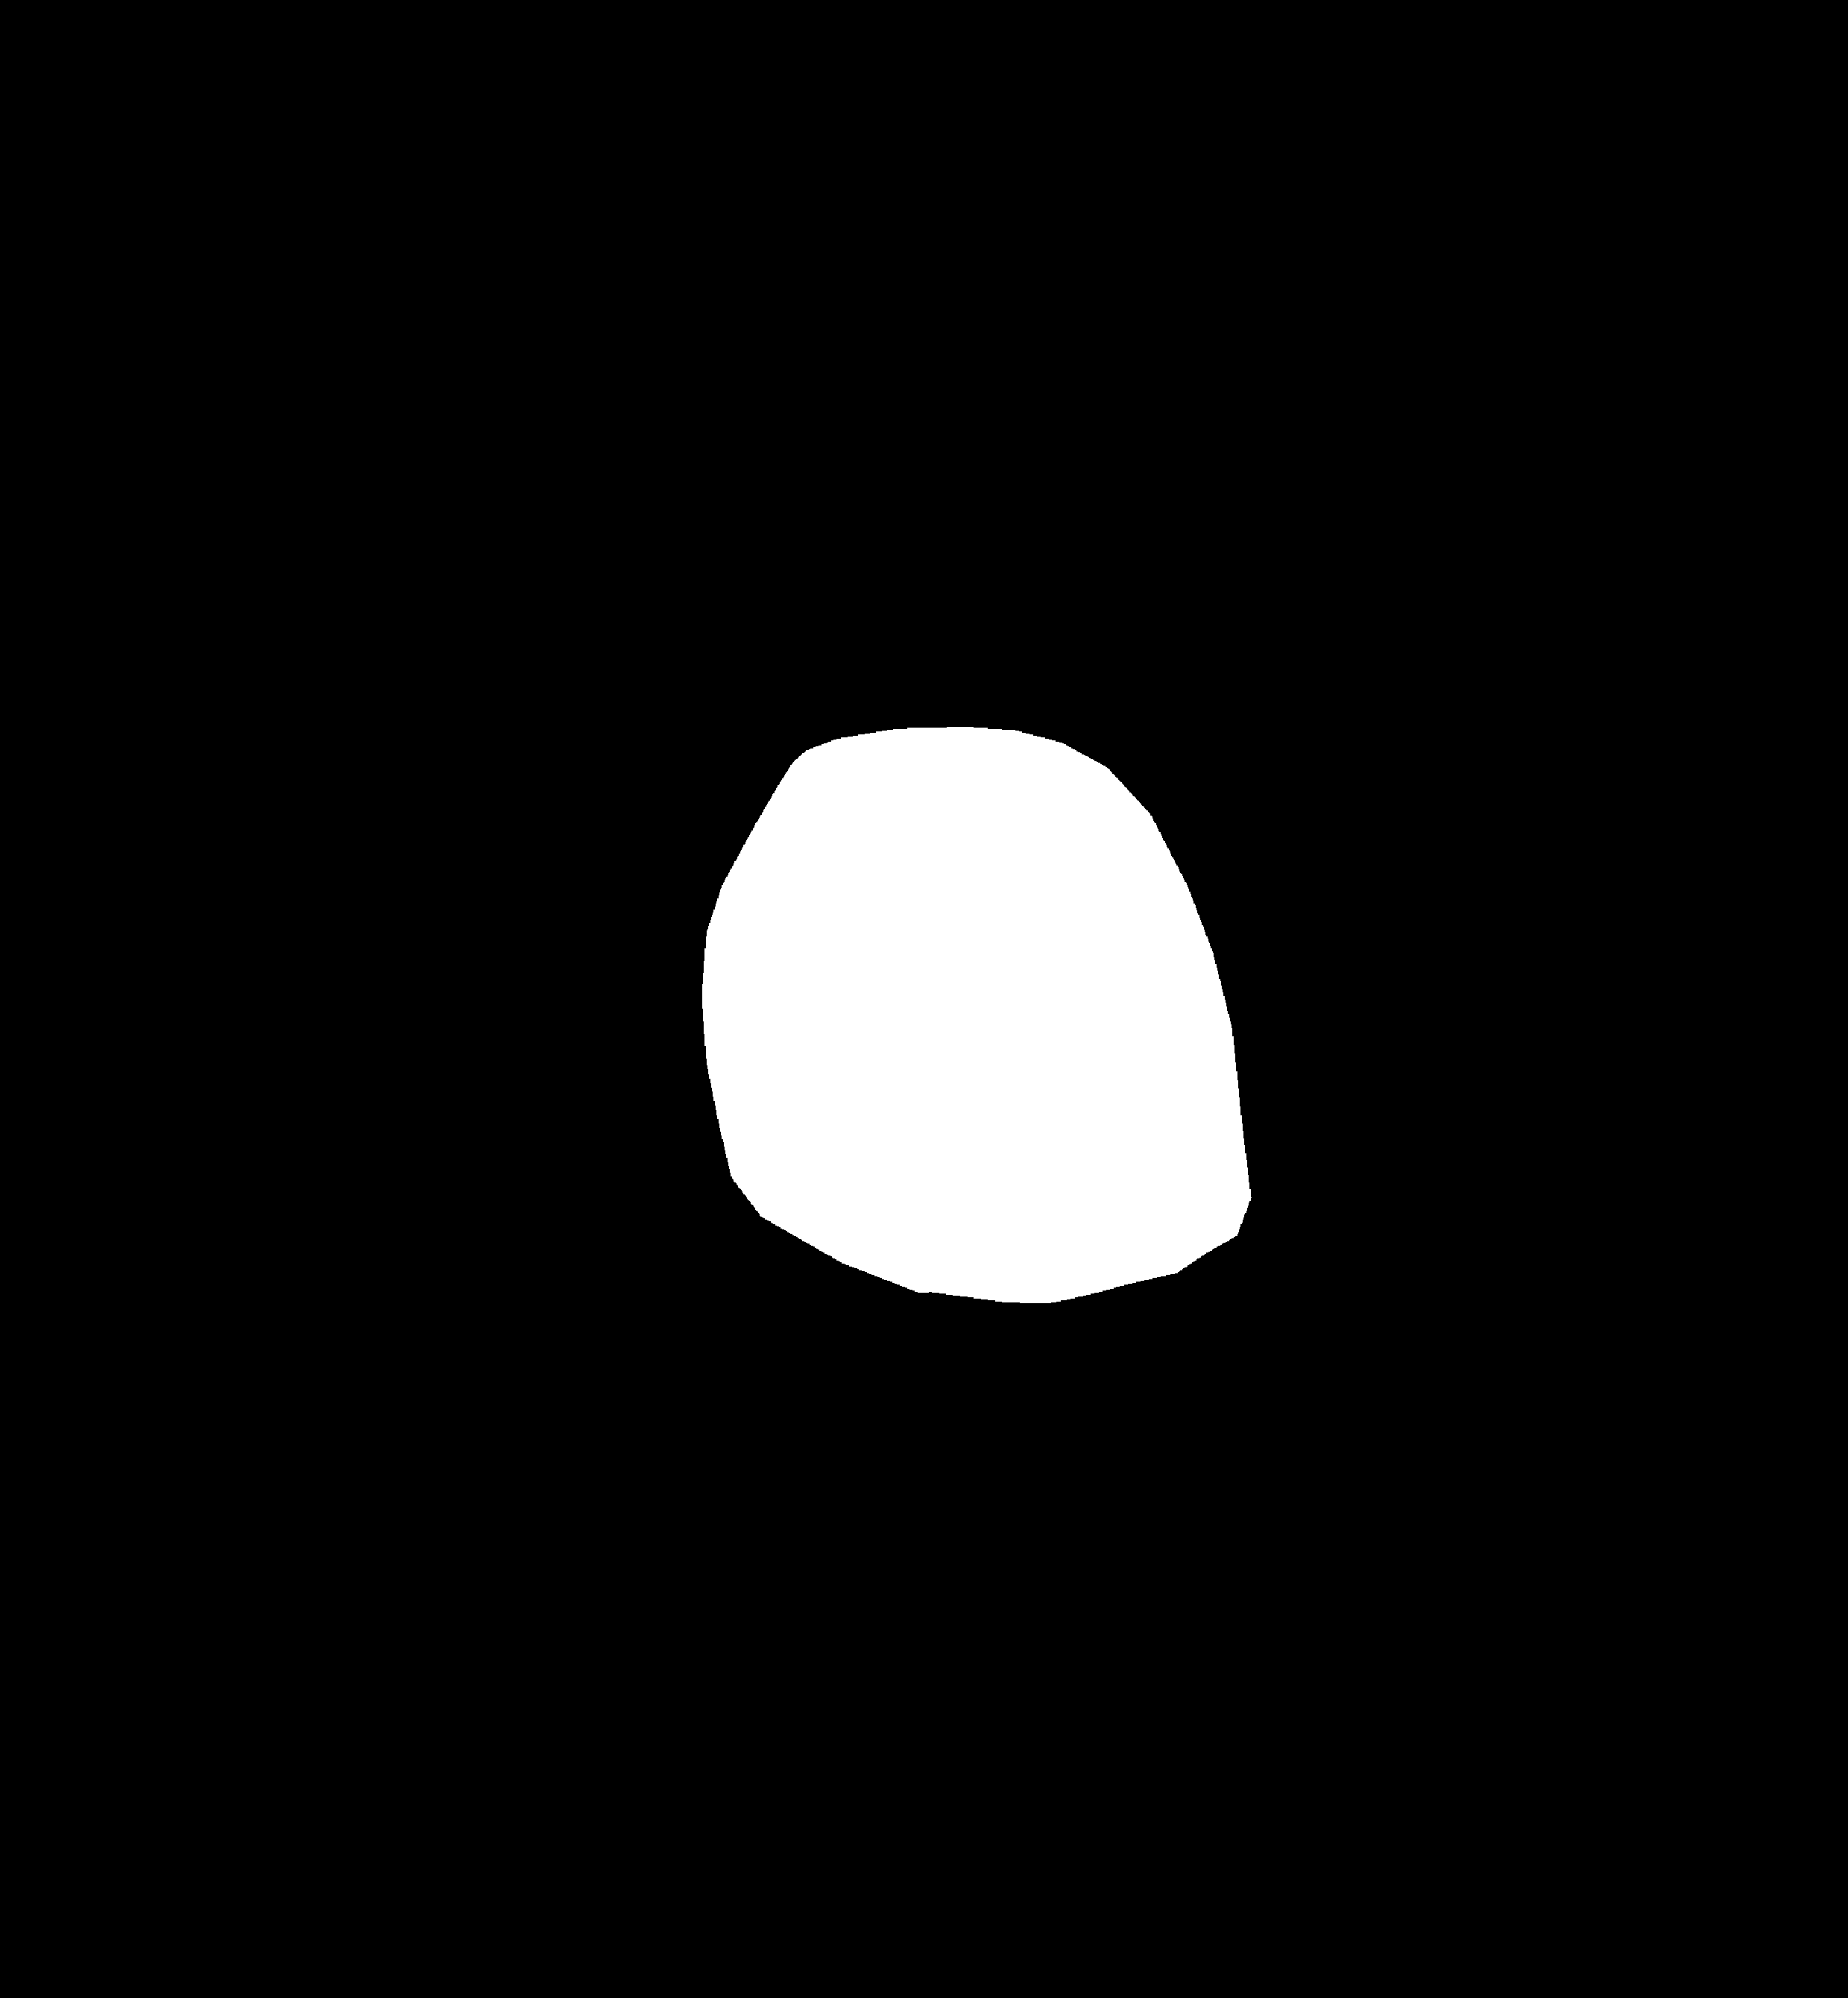heart: (706, 764, 1253, 1312)
left_lung: (263, 96, 863, 1462)
right_lung: (995, 91, 1570, 1488)
